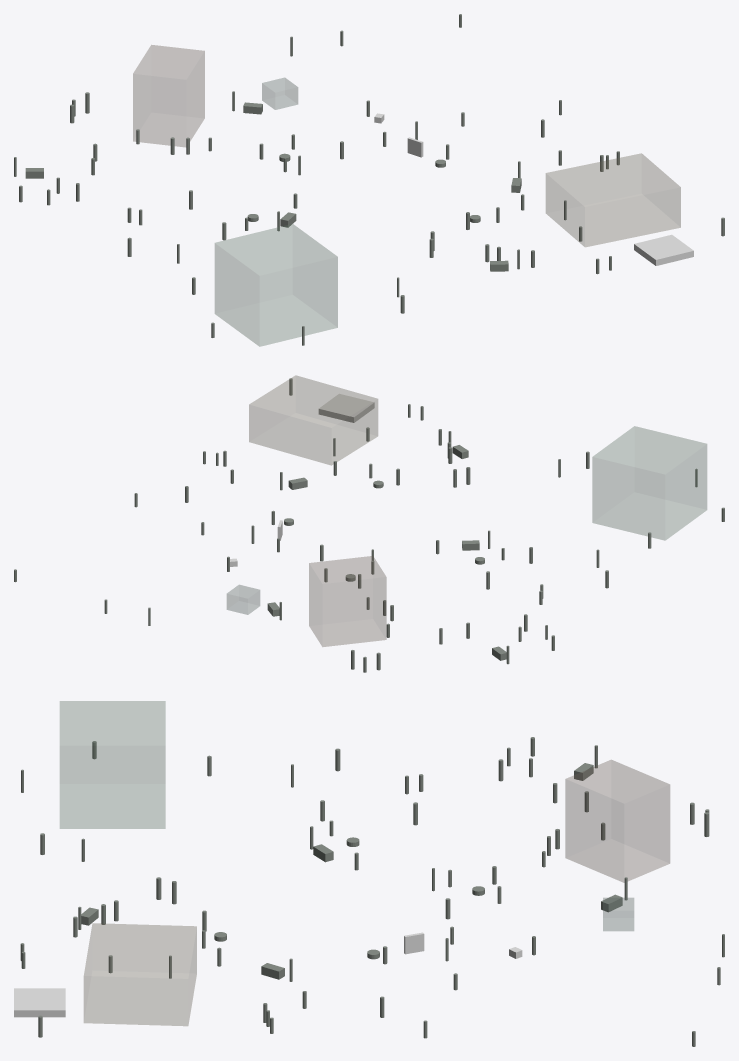
File: colliders.glb
3 renders of one model, top to bottom at view 1: azimuth 30°, elevation 25°; view 2: azimuth 150°, elevation 25°; view 3: azimuth 270°, elevation 25°, orthographic. The views are drawn at different scales.
Parts seen in each view (by area): view 1: sectionFootprint_skills, sectionFootprint_projects, sectionFootprint_contact, miscFootprint_pool, sectionFootprint_experience; view 2: sectionFootprint_skills, sectionFootprint_projects, sectionFootprint_contact, miscFootprint_pool, sectionFootprint_experience; view 3: sectionFootprint_skills, sectionFootprint_projects, sectionFootprint_contact, miscFootprint_pool, sectionFootprint_experience.
Part boxes in pixels (left/top/right/bottom): sectionFootprint_skills: left=215, top=224, right=337, bottom=346; sectionFootprint_projects: left=546, top=153, right=680, bottom=246; sectionFootprint_contact: left=133, top=45, right=204, bottom=147; miscFootprint_pool: left=634, top=234, right=693, bottom=265; sectionFootprint_experience: left=262, top=77, right=297, bottom=109; sectionFootprint_skills: left=592, top=426, right=706, bottom=540; sectionFootprint_projects: left=249, top=375, right=377, bottom=465; sectionFootprint_contact: left=309, top=556, right=386, bottom=646; miscFootprint_pool: left=318, top=394, right=374, bottom=422; sectionFootprint_experience: left=227, top=585, right=259, bottom=614; sectionFootprint_skills: left=60, top=701, right=165, bottom=828; sectionFootprint_projects: left=84, top=923, right=196, bottom=1025; sectionFootprint_contact: left=565, top=760, right=669, bottom=882; miscFootprint_pool: left=14, top=988, right=65, bottom=1017; sectionFootprint_experience: left=603, top=898, right=633, bottom=930.
Bounding box in the file's own units: 97.98 × 13.57 × 101.
